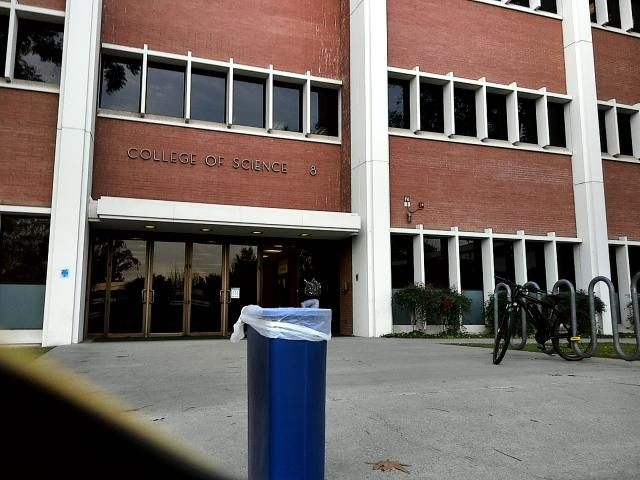trashcan_open: (236, 304, 336, 480)
